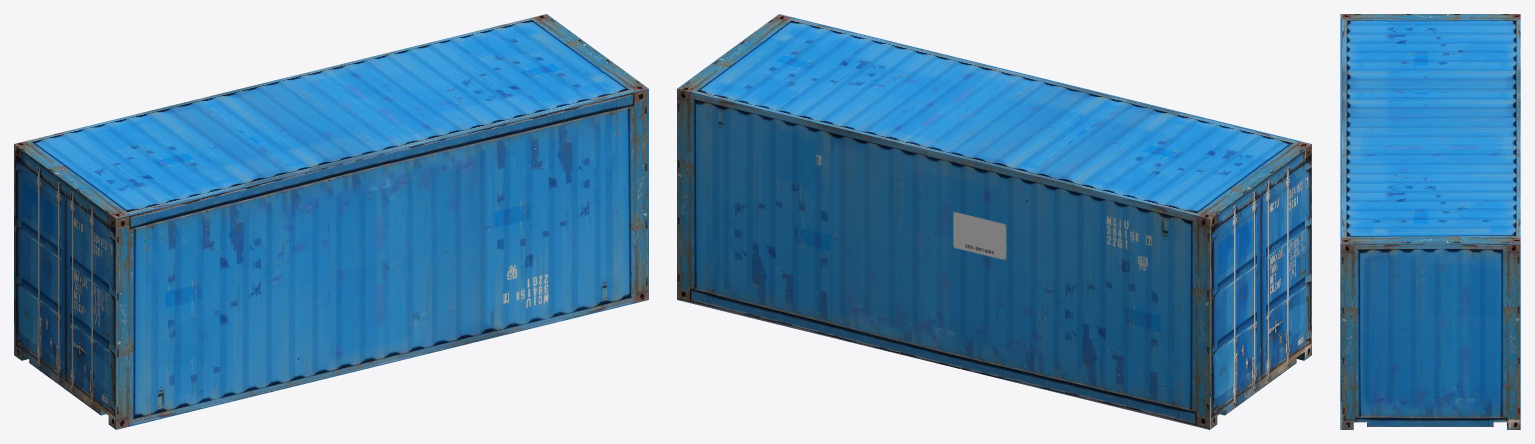
The model's file is conteiner_azul.gltf.
3 views of the same model, side by side, from view 1: azimuth 30°, elevation 25°; view 2: azimuth 150°, elevation 25°; view 3: azimuth 270°, elevation 25° (orthographic). The views are drawn at different scales.
Visible parts, largest first — view 1: conteiner_azul; view 2: conteiner_azul; view 3: conteiner_azul.
Part boxes in pixels (box(x1,y1,x2,y2)): conteiner_azul: box(14, 14, 648, 429); conteiner_azul: box(677, 14, 1311, 429); conteiner_azul: box(1340, 14, 1520, 429).
Size of the model in its own units: 6.86 by 2.6 by 2.28.
Materials: 1 (1 with a texture image).
